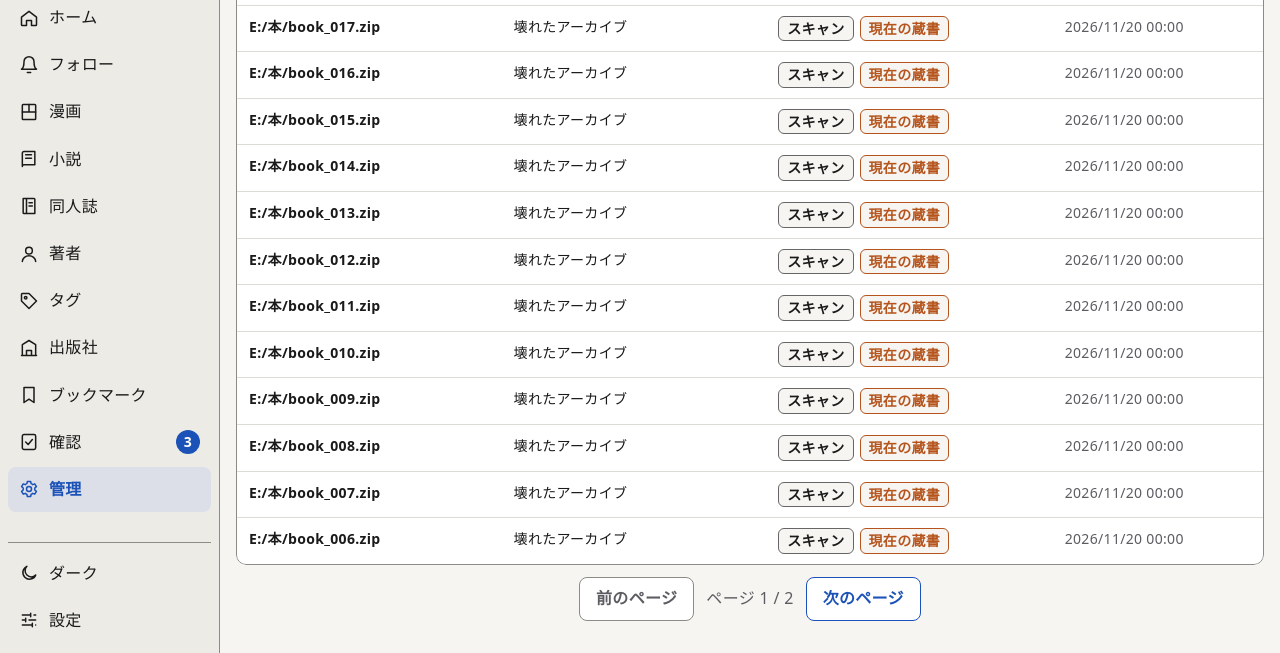
管理の読めなかったものタブ › 100 件を超える記録をページ送りで確認できる
(page scrolled)
Check: the text "ページ 1 / 2" is shown, box x1=706 y1=585 x2=794 y2=612
Check: the button "前のページ" is disabled, box x1=579 y1=577 x2=694 y2=621
Click the button "次のページ".
click(863, 599)  # box x1=806 y1=577 x2=921 y2=621
(page scrolled)
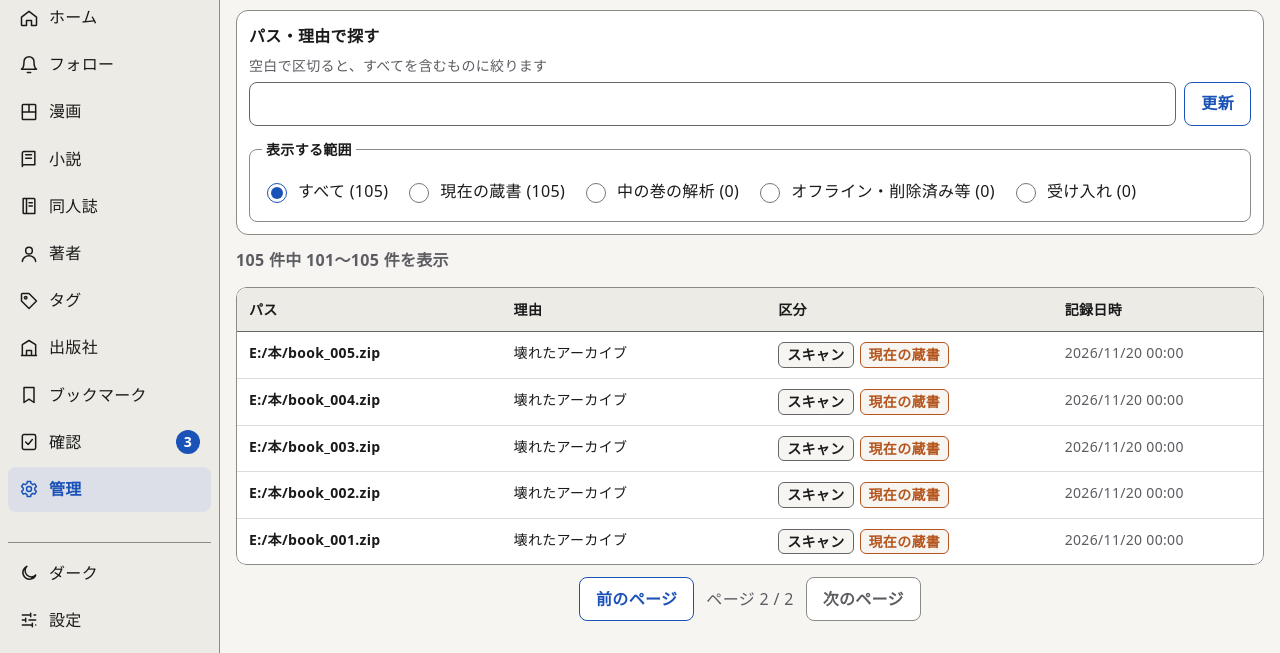
Check: the message reads "105 件中 101〜105 件を表示", box x1=236 y1=249 x2=449 y2=271
Check: the text "ページ 2 / 2" is shown, box x1=706 y1=586 x2=794 y2=613
Check: the number of rows is 6, box x1=237 y1=288 x2=1263 y2=332; x1=237 y1=332 x2=1263 y2=379; x1=237 y1=379 x2=1263 y2=426; x1=237 y1=426 x2=1263 y2=472; x1=237 y1=472 x2=1263 y2=519; x1=237 y1=519 x2=1263 y2=564
Click the button "前のページ".
click(637, 599)  # box x1=579 y1=577 x2=694 y2=621
(page scrolled)
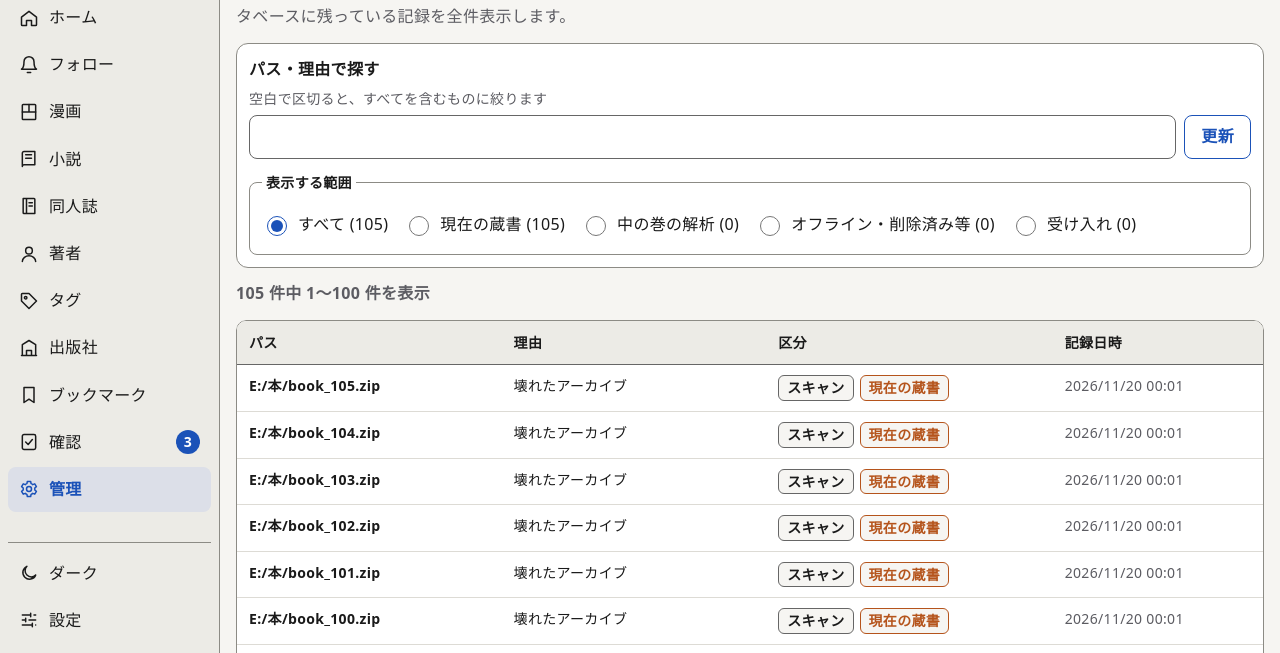
Check: the message reads "105 件中 1〜100 件を表示", box x1=236 y1=282 x2=430 y2=304
